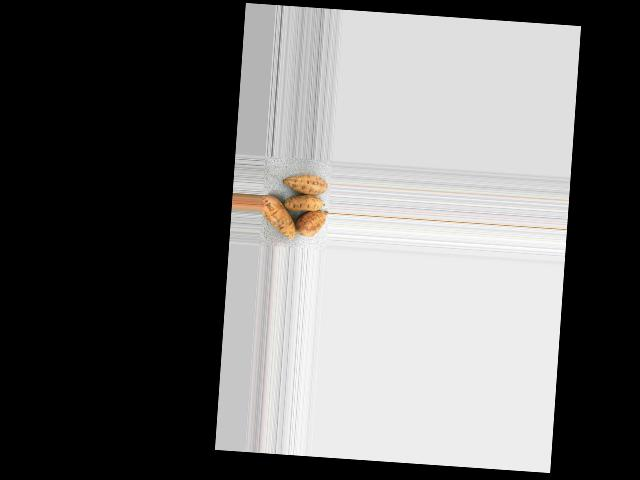sweet_potato: (259, 190, 298, 242)
